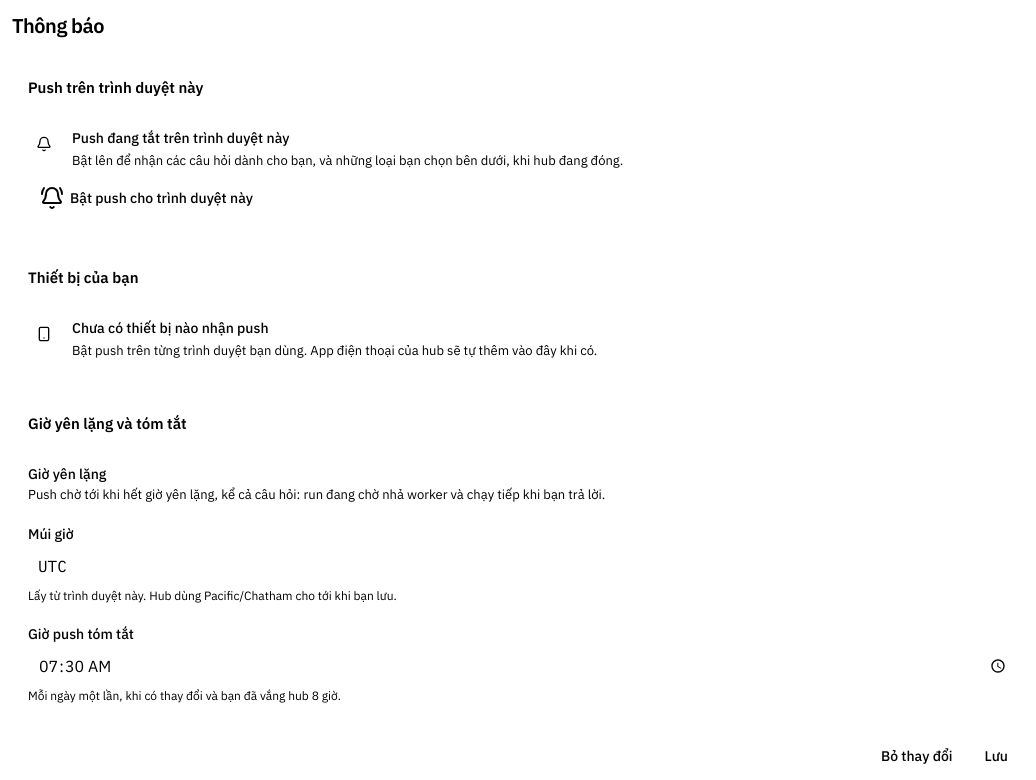
Test: push on this browser › refuses a device over the hub's limit with what to do, beside the button
This screenshot has width=1036, height=780.
Step 1. Click the button with test id "push-browser-on" → (146, 198), box x1=28 y1=182 x2=265 y2=214
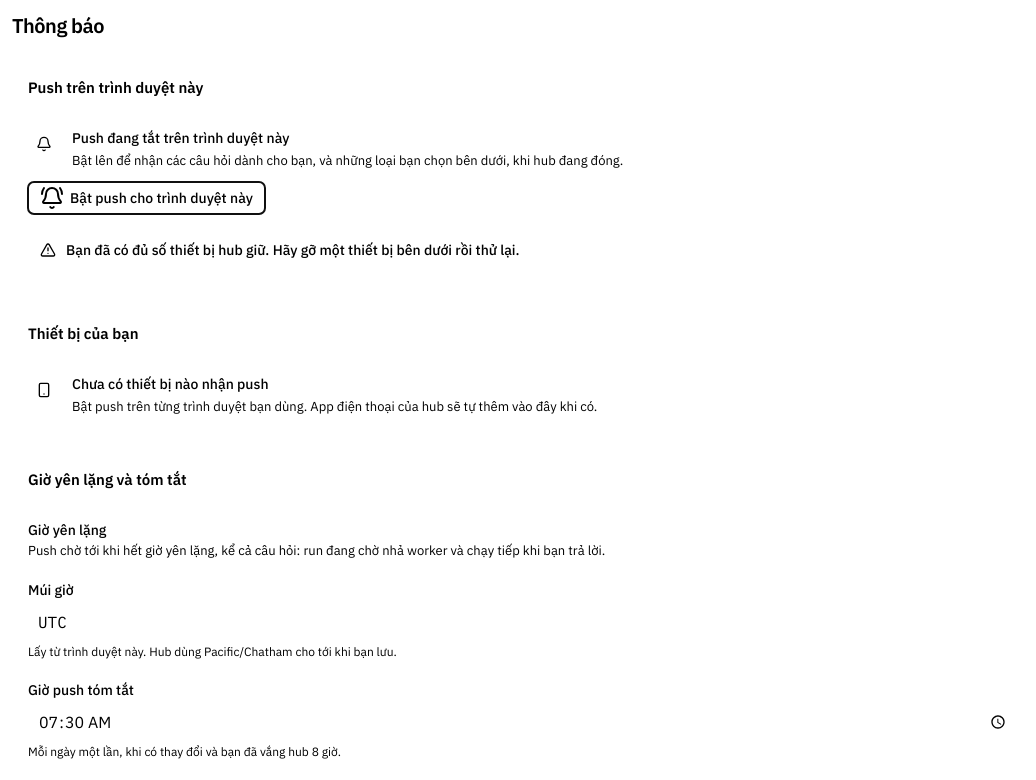
Expected: the message reads "Bạn đã có đủ số thiết bị hub giữ. Hãy gỡ một thiết bị bên dưới rồi thử lại.", x1=66 y1=241 x2=520 y2=259
